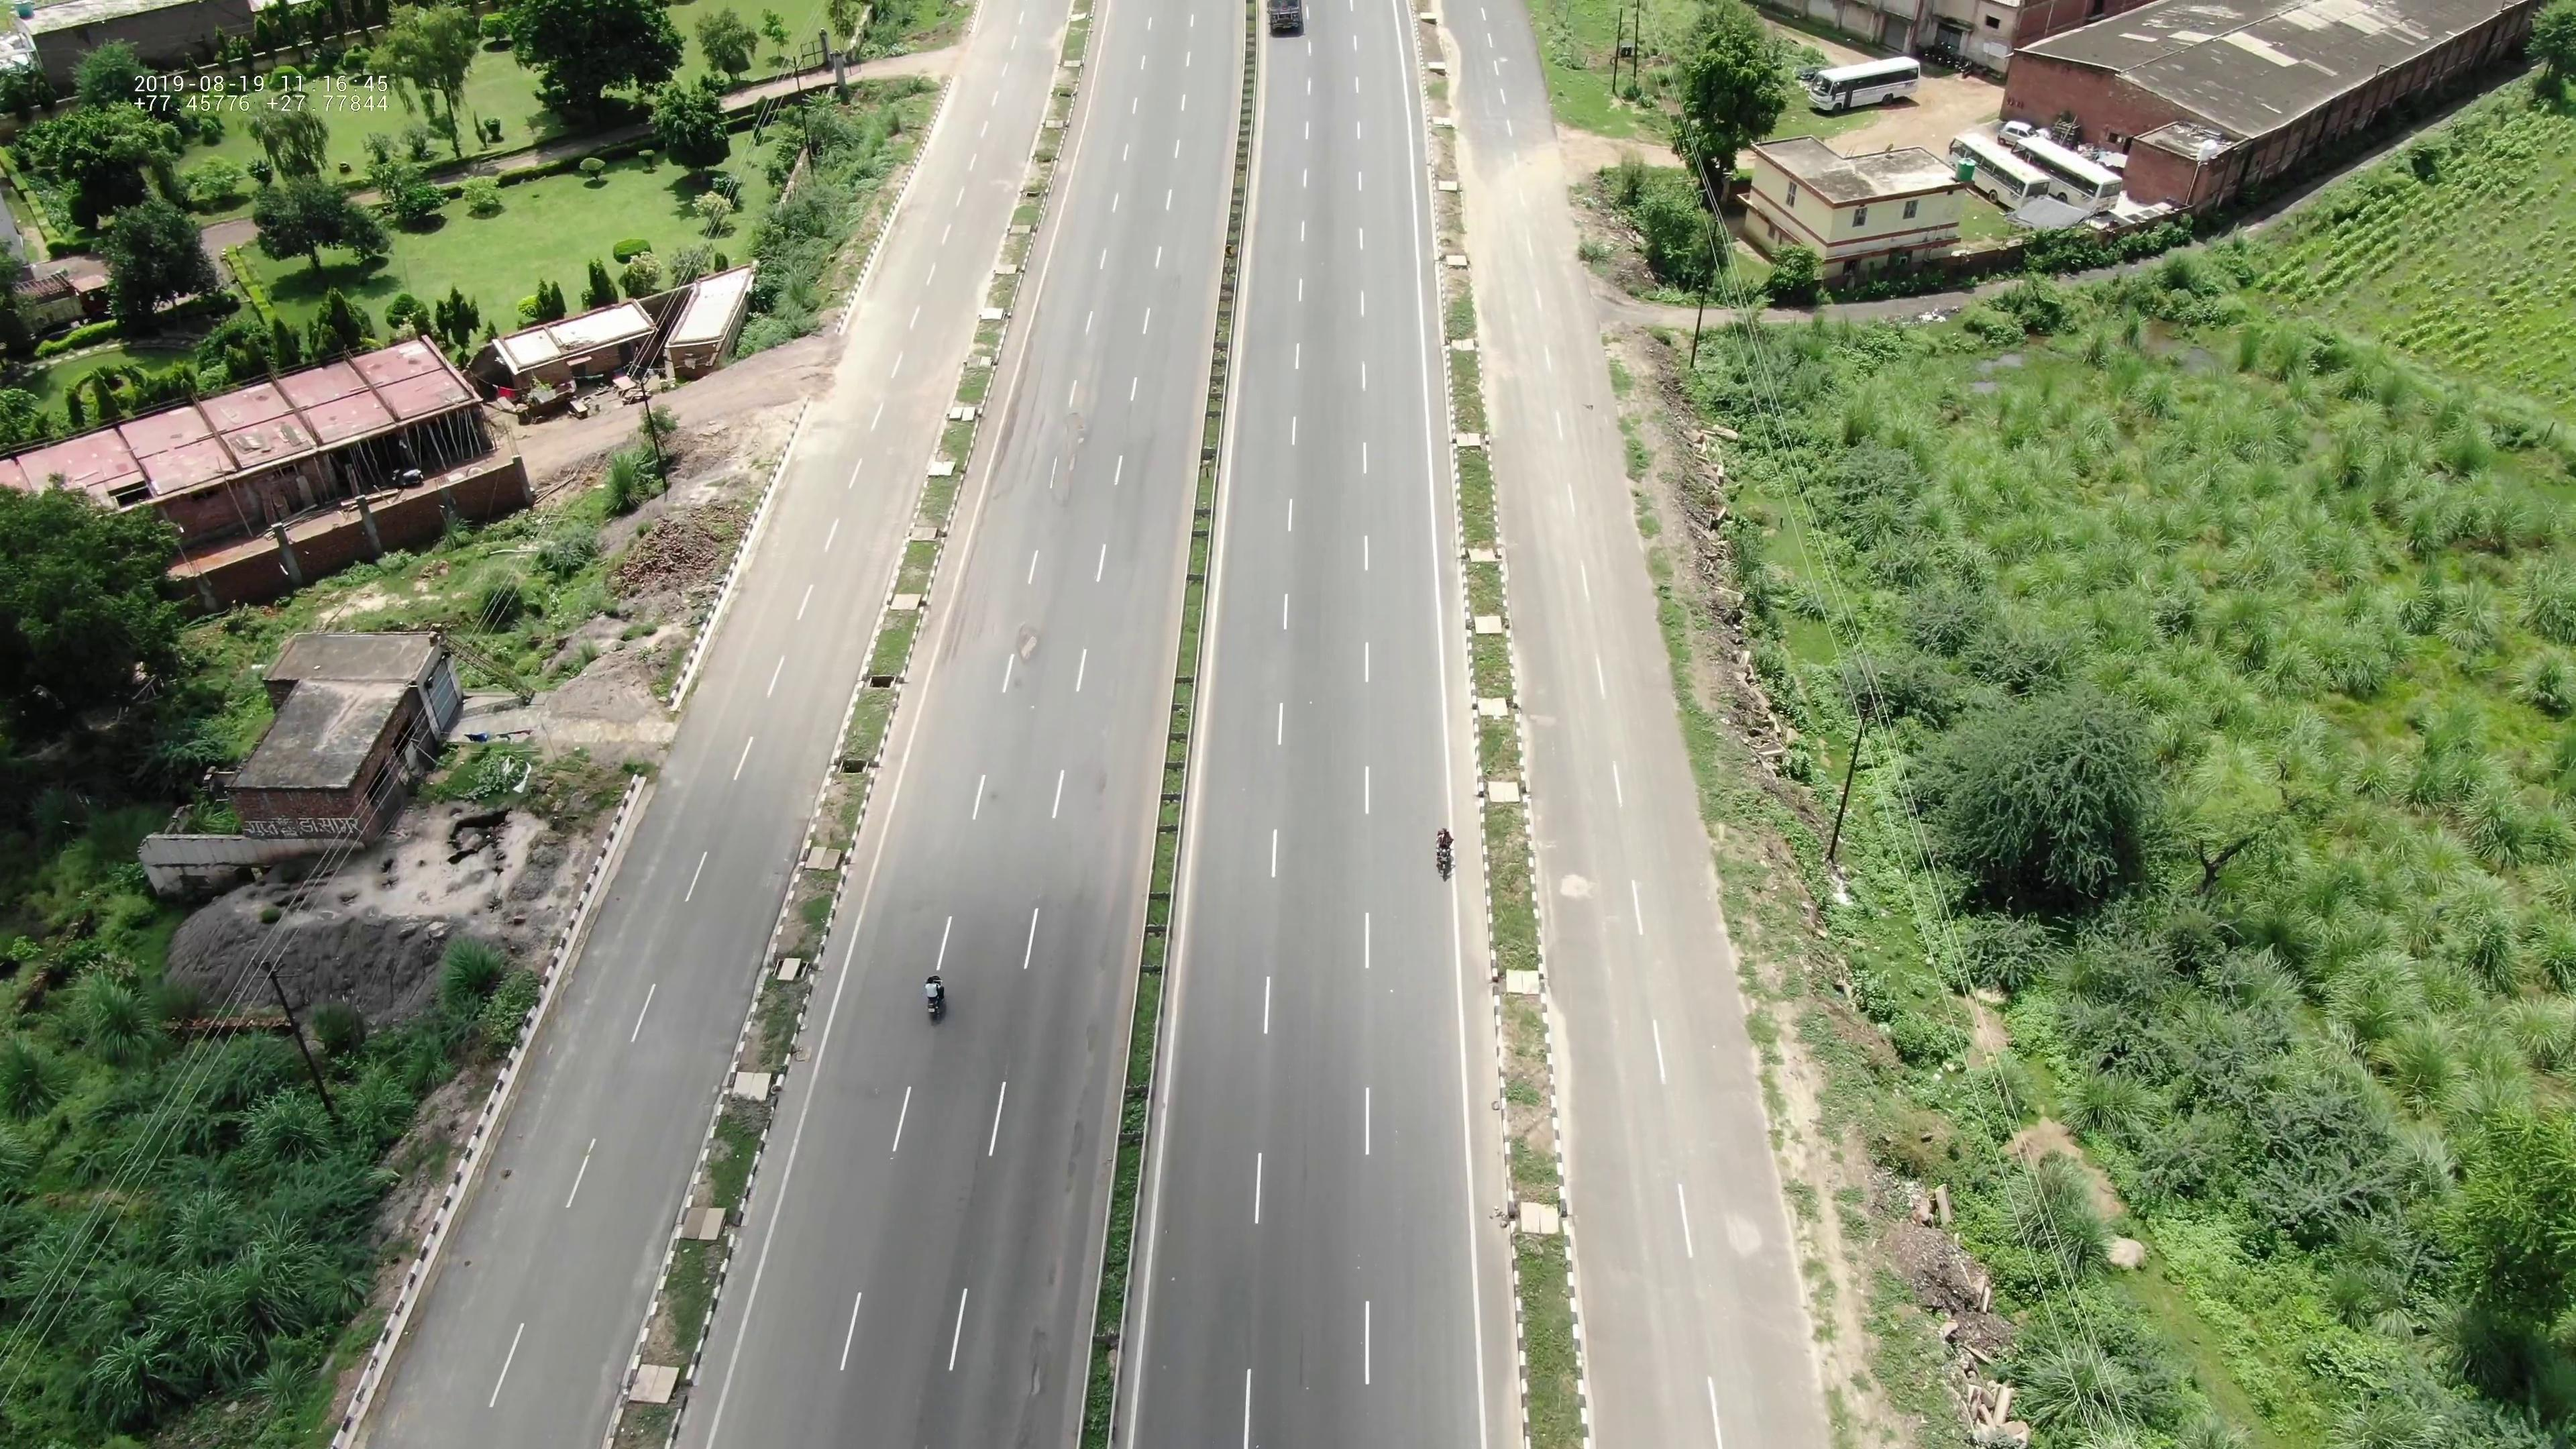Potholes: (1060, 405, 1106, 518), (1000, 591, 1049, 678)
